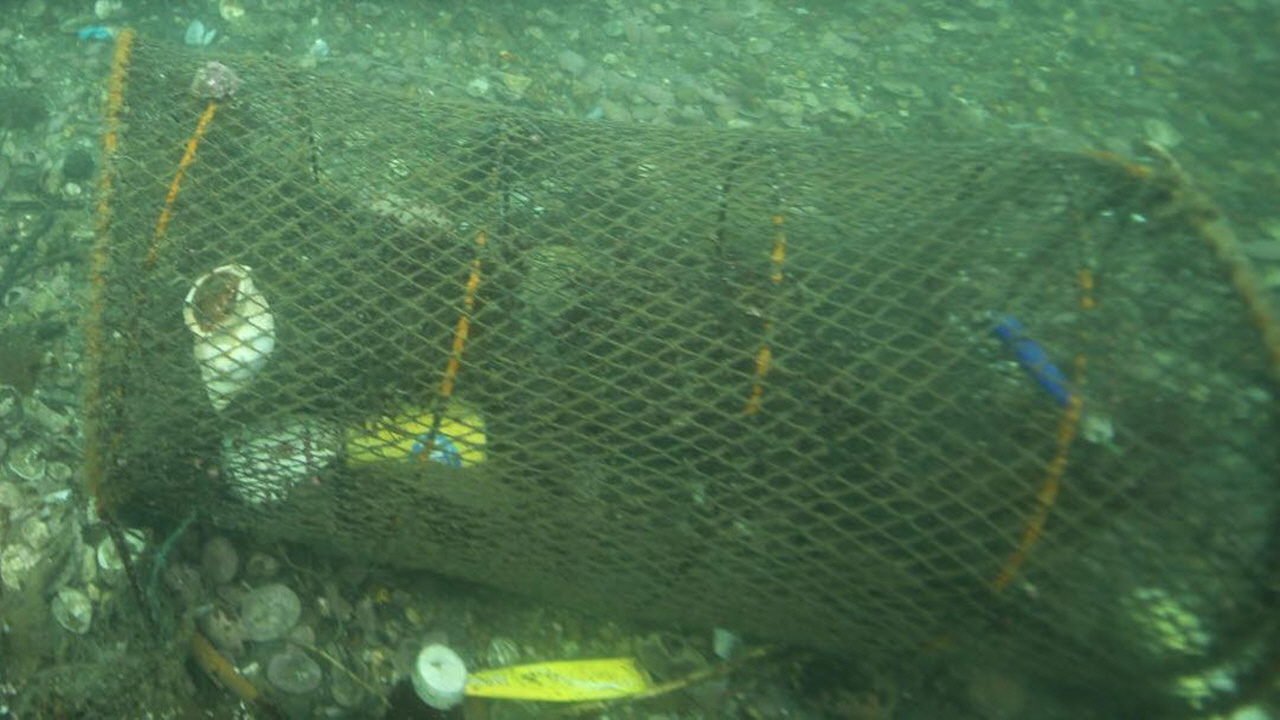spring fish trap: (79, 27, 1280, 720)
